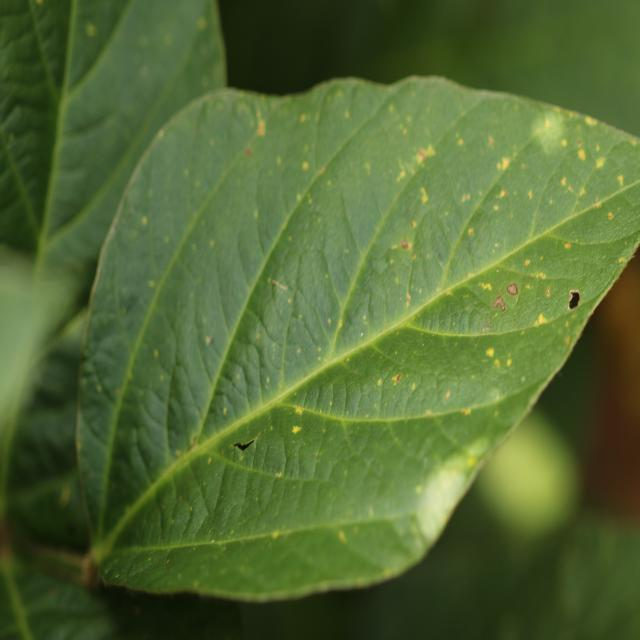Soybean: (0, 28, 640, 607)
downey_mildew: (168, 181, 272, 330), (460, 246, 537, 358), (475, 252, 574, 338), (536, 136, 622, 219), (262, 400, 340, 488), (376, 223, 435, 326), (415, 463, 470, 543), (379, 131, 439, 204), (162, 540, 215, 575), (462, 435, 492, 463), (233, 434, 261, 453), (186, 429, 201, 453), (496, 156, 511, 172), (421, 144, 436, 160), (60, 487, 71, 506), (506, 283, 519, 296), (479, 281, 492, 291), (86, 24, 96, 37), (197, 17, 207, 30), (577, 148, 586, 161), (338, 530, 347, 543), (481, 320, 490, 333), (586, 116, 597, 126), (596, 157, 605, 169), (467, 456, 476, 468), (418, 149, 427, 161), (257, 124, 265, 137), (394, 373, 402, 386), (294, 406, 304, 416), (291, 425, 302, 434), (486, 347, 494, 358), (205, 335, 213, 346), (245, 147, 253, 158), (461, 407, 470, 416), (271, 530, 279, 540), (444, 390, 451, 401), (174, 449, 182, 458), (499, 189, 506, 199), (302, 161, 309, 171), (141, 216, 148, 226), (560, 177, 567, 187), (401, 239, 408, 249), (489, 136, 495, 147), (148, 279, 155, 288), (415, 485, 422, 494), (300, 113, 307, 122), (527, 190, 533, 200), (539, 272, 546, 280), (564, 242, 572, 249), (524, 259, 531, 267), (618, 257, 626, 264), (153, 349, 159, 358), (468, 227, 474, 236), (96, 384, 102, 393), (275, 471, 282, 478), (209, 239, 215, 247), (561, 139, 567, 147), (577, 138, 582, 147), (493, 204, 499, 211), (207, 457, 212, 465), (296, 193, 301, 201), (411, 382, 416, 390), (377, 378, 382, 386), (525, 284, 531, 290), (223, 407, 227, 416), (114, 573, 120, 578), (327, 317, 331, 324), (160, 374, 164, 381), (189, 505, 193, 512), (166, 557, 170, 564), (365, 413, 369, 419), (270, 425, 274, 431), (329, 401, 333, 407), (211, 538, 215, 543), (360, 332, 364, 337)
